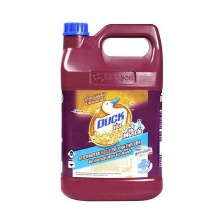cleaning_solution: (55, 17, 166, 203)
